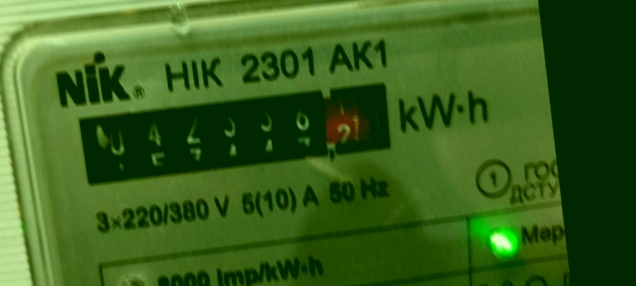0: (102, 122, 124, 157)
1: (329, 90, 344, 118)
2: (177, 109, 201, 145), (330, 121, 349, 144)
3: (213, 104, 235, 138), (252, 100, 273, 133)
4: (141, 114, 162, 147)
6: (287, 97, 311, 133)
screen: (61, 67, 405, 196)
